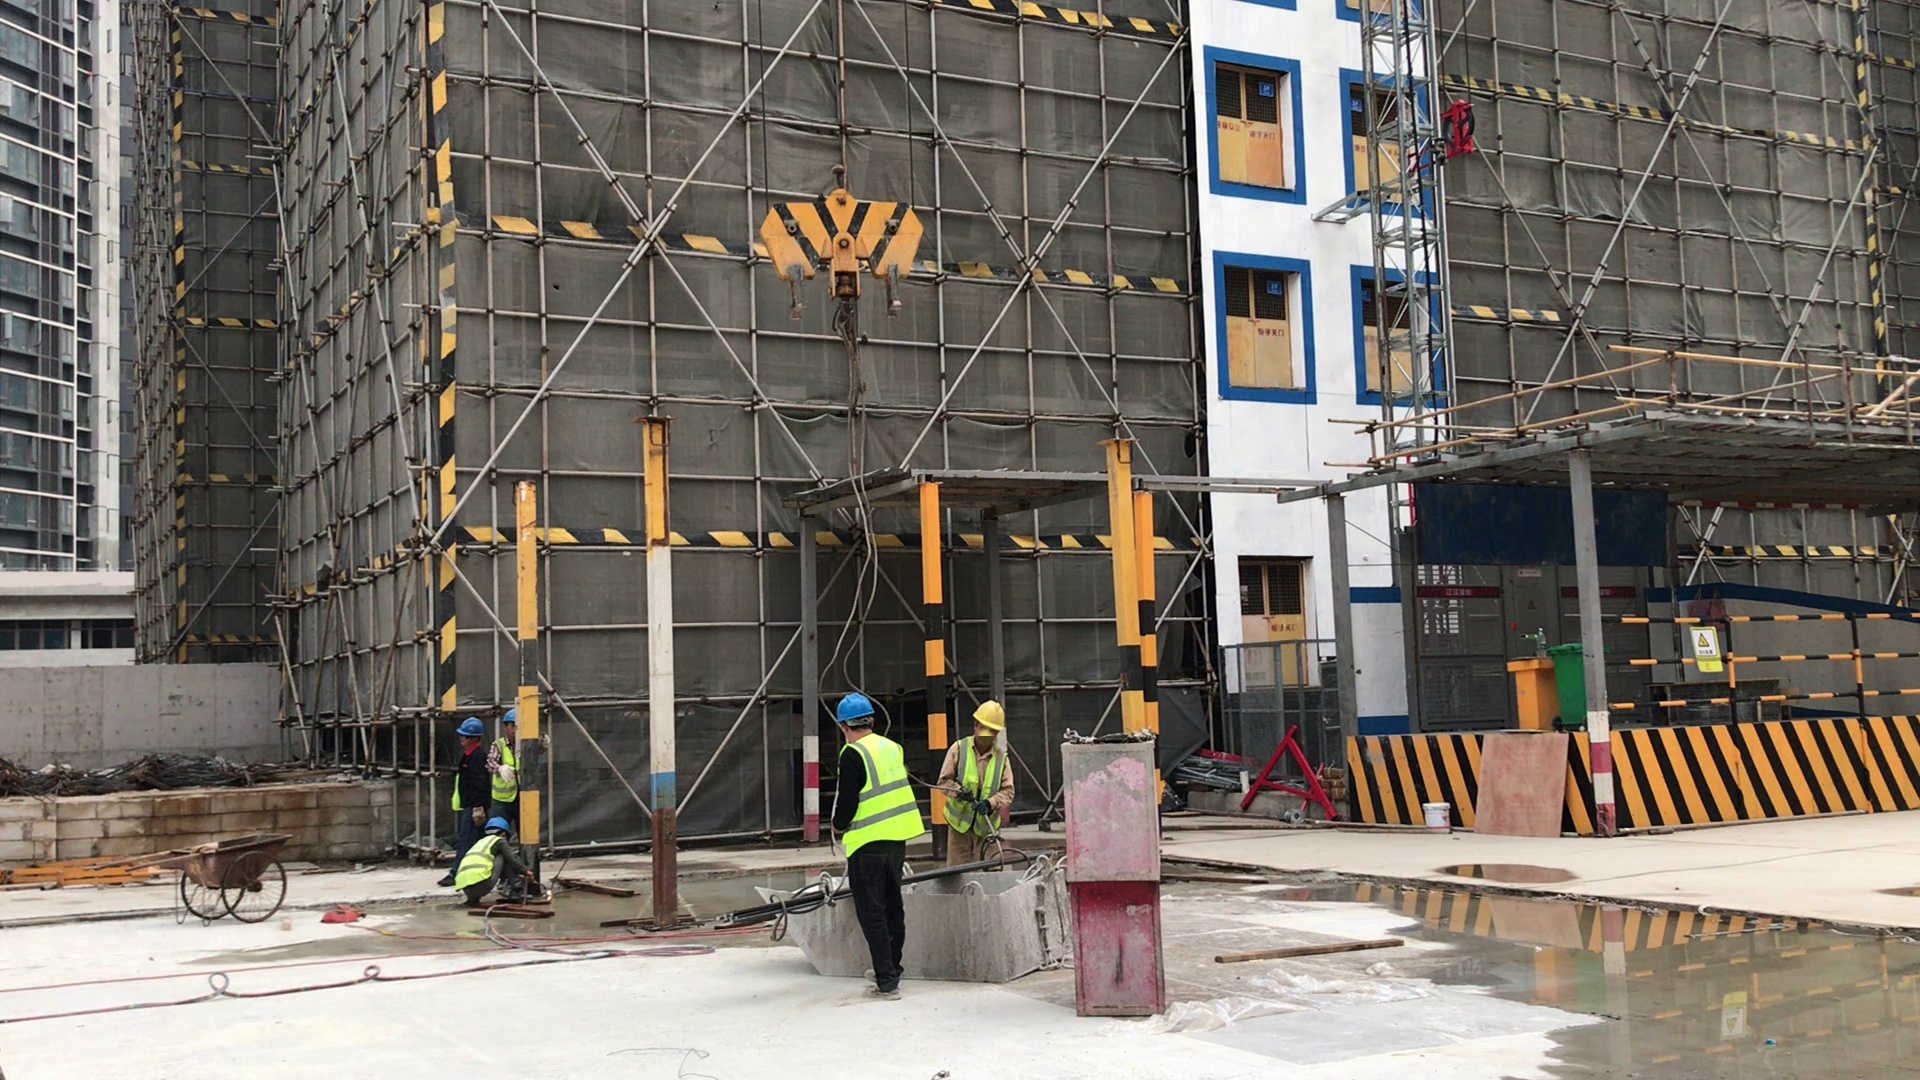fence: (1598, 603, 1920, 727)
handcart: (91, 820, 321, 941)
helmet: (967, 689, 1017, 742), (828, 689, 879, 731), (473, 810, 520, 845), (452, 714, 489, 753), (493, 697, 524, 742)
hook: (740, 151, 937, 369)
hopper: (729, 854, 1077, 993)
person: (806, 668, 931, 1014), (936, 662, 1029, 851), (450, 797, 573, 918), (488, 689, 544, 849), (443, 699, 490, 869)
rebar: (713, 872, 850, 943), (903, 858, 1046, 892)
slogan: (1672, 616, 1734, 685)
vest: (831, 730, 930, 855), (943, 736, 1016, 841), (453, 834, 508, 897), (489, 735, 523, 806), (445, 756, 480, 821)
